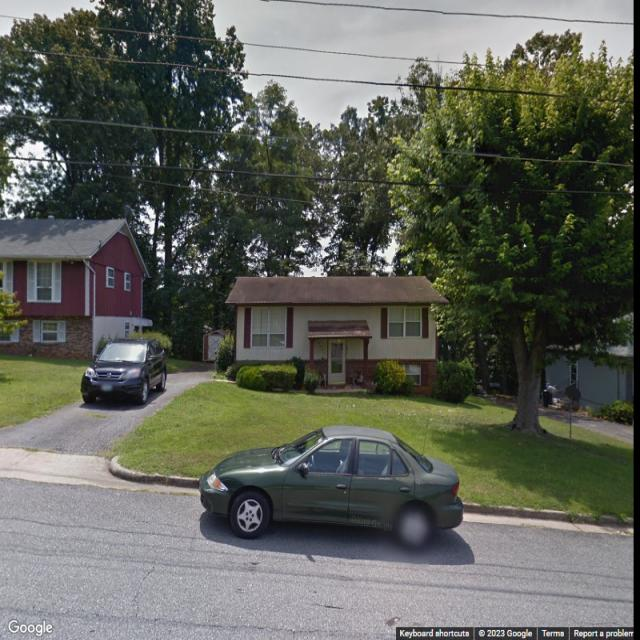House: (224, 275, 446, 397), (0, 217, 153, 361), (542, 309, 635, 413)
